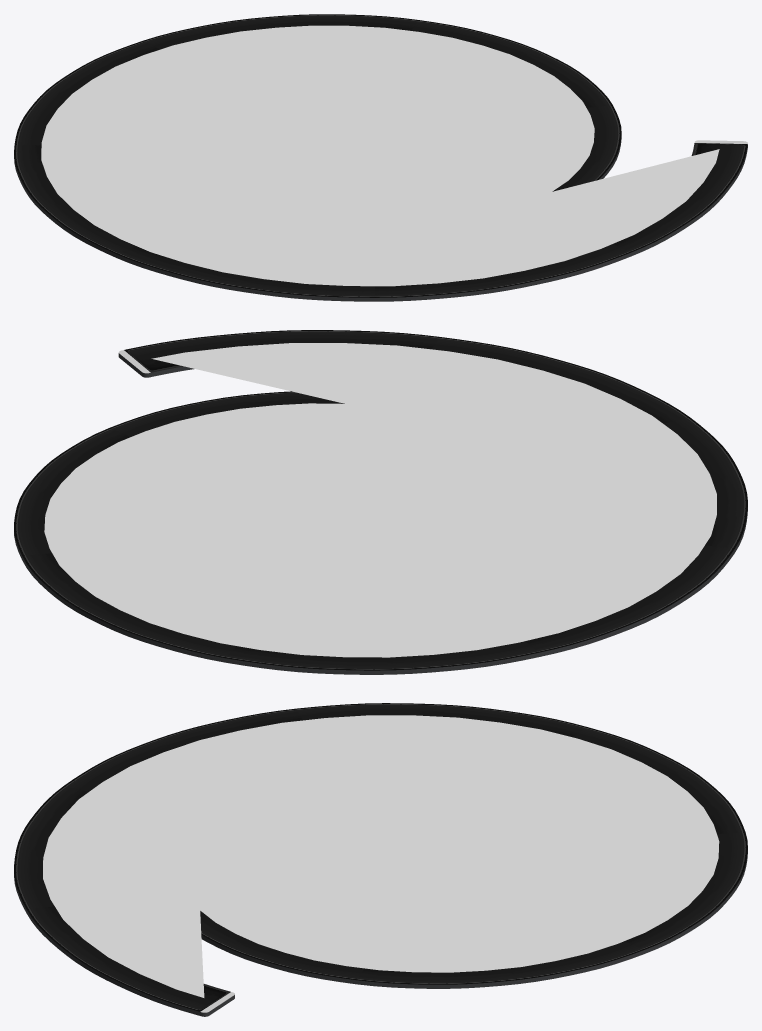
Rendered from sliders.fbx.
3 views of the same model, one above another, from view 1: azimuth 30°, elevation 25°; view 2: azimuth 150°, elevation 25°; view 3: azimuth 270°, elevation 25° (orthographic). The views are drawn at different scales.
Parts seen in each view (by area): view 1: spiral_slider_rail, spiral_slider; view 2: spiral_slider_rail, spiral_slider; view 3: spiral_slider_rail, spiral_slider.
Part boxes in pixels (x1,y1,x2,y2): spiral_slider_rail: (41,25,719,286); spiral_slider: (14,14,747,301); spiral_slider_rail: (44,343,716,657); spiral_slider: (14,330,747,674); spiral_slider_rail: (43,715,719,997); spiral_slider: (14,703,747,1016).
Size of the model in its own units: 488 by 3.09 by 489.
